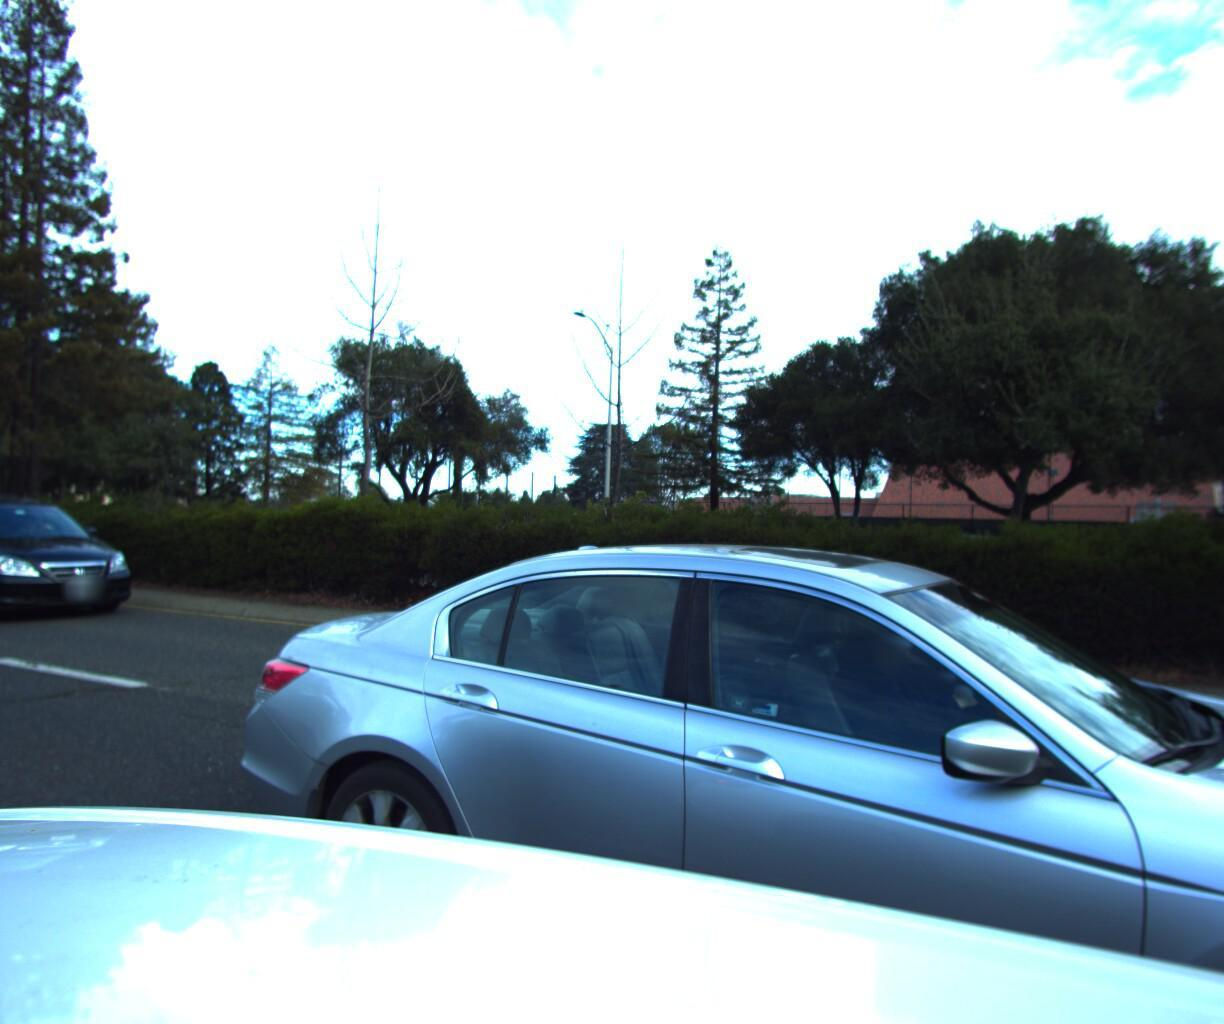car: (182, 505, 1224, 1024), (0, 486, 156, 633), (815, 523, 1018, 609)
